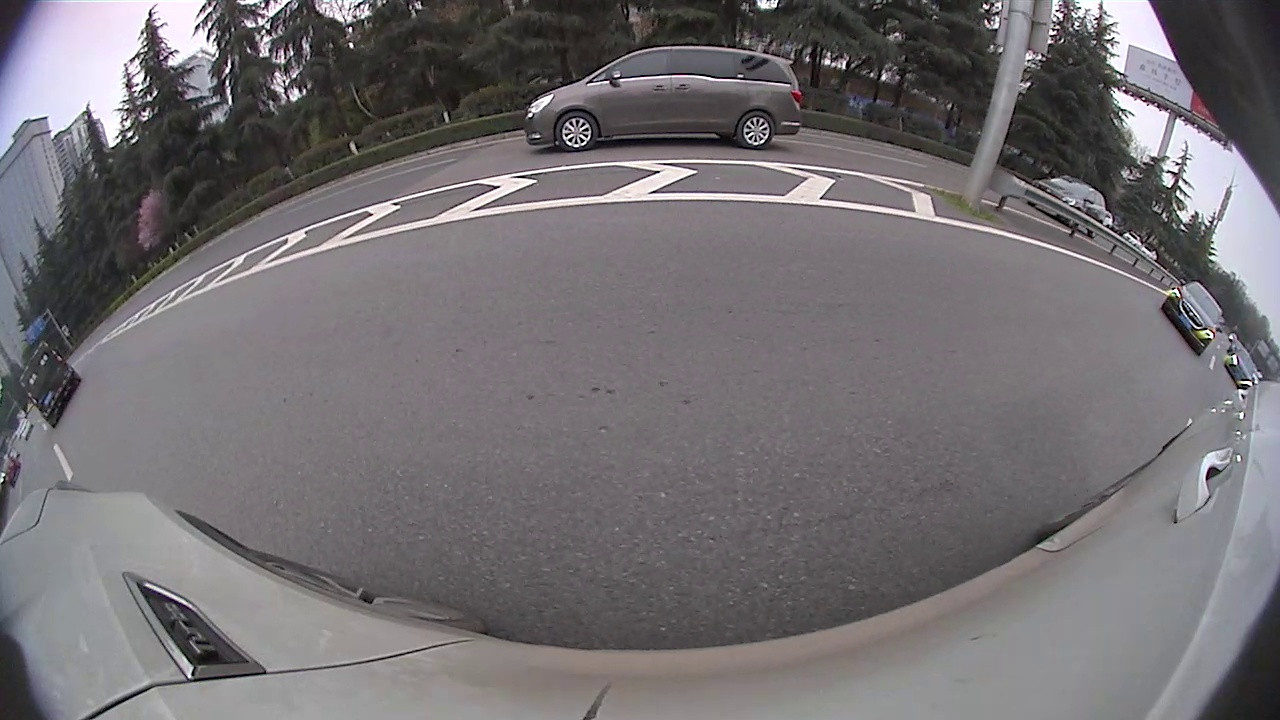car: (1012, 172, 1279, 396), (339, 149, 522, 247), (705, 148, 799, 203), (606, 146, 674, 198), (831, 171, 896, 206), (785, 162, 829, 195), (551, 159, 594, 192)
front: (1024, 237, 1058, 277), (509, 184, 520, 212), (707, 175, 716, 193), (824, 183, 832, 196)
rear: (1202, 341, 1243, 396), (450, 196, 473, 236), (850, 187, 863, 203), (727, 179, 737, 198)
